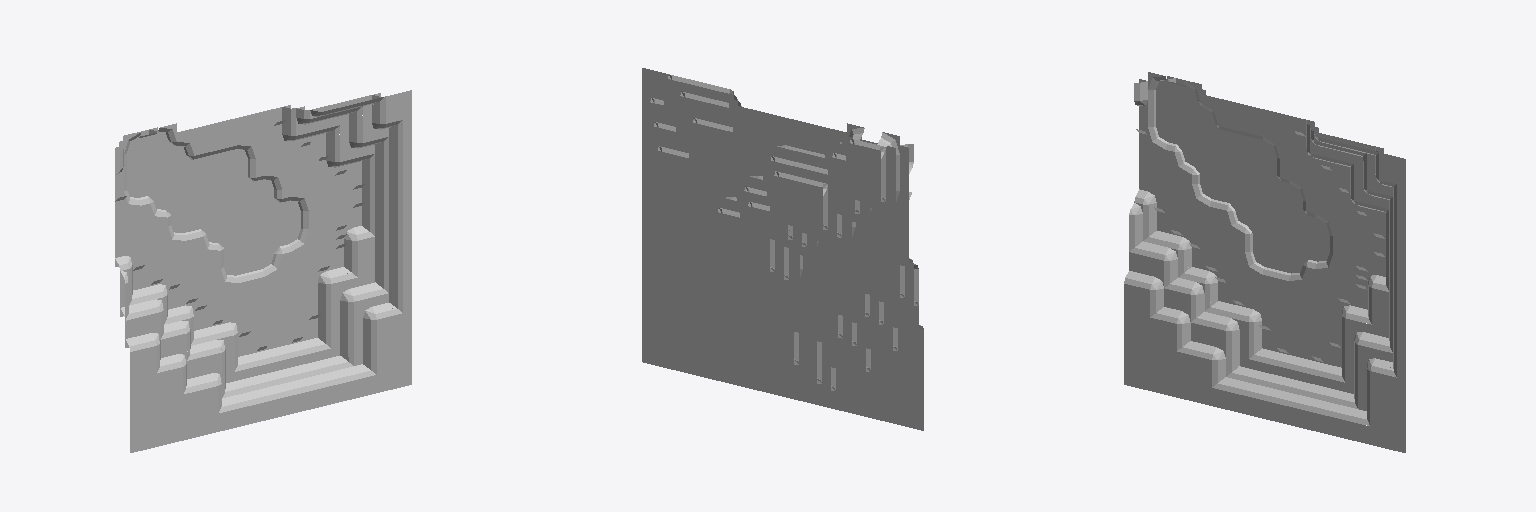
File: Uluru-Cave-3_03_01.obj
The picture shows the model from 3 angles: view 1: azimuth 30°, elevation 25°; view 2: azimuth 150°, elevation 25°; view 3: azimuth 330°, elevation 25°; orthographic projection.
Parts seen in each view (by area): view 1: map; view 2: map; view 3: map.
Boxes of the visible parts, box(x1,y1,x2,y2) form: map: box(115, 90, 411, 452); map: box(642, 68, 923, 430); map: box(1124, 72, 1405, 452).
Size of the model in its own units: 32 by 33 by 6.